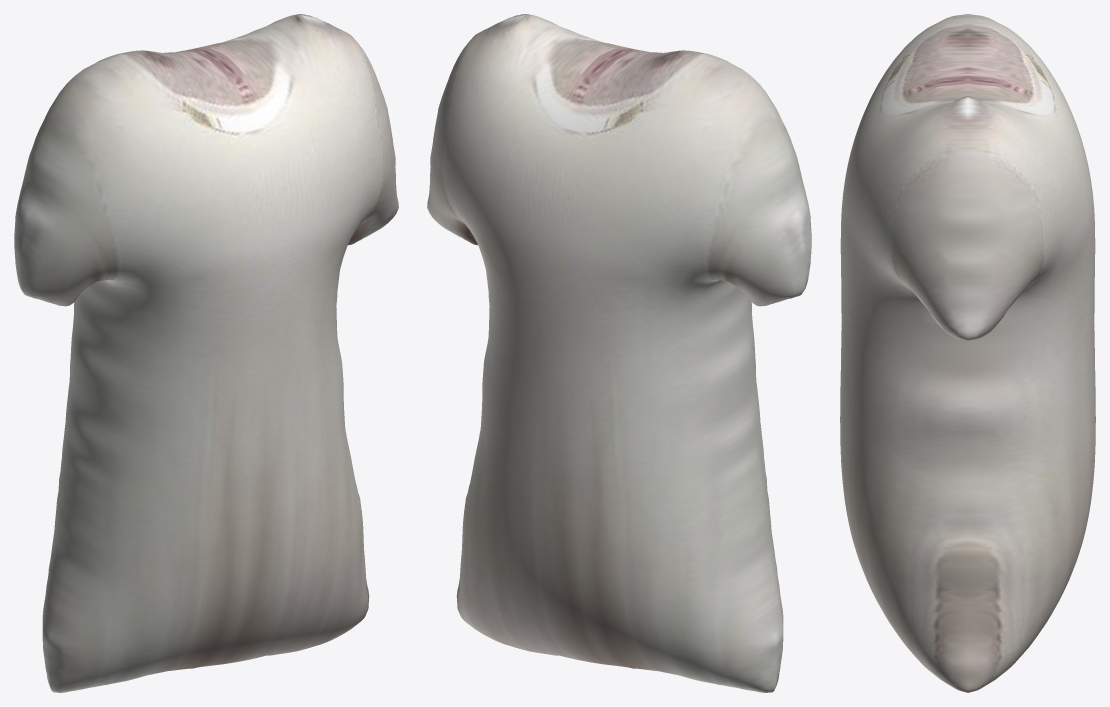
File: AN621CAK9-B11@10=cloth_front.glb
The picture shows the model from 3 angles, left to right: view 1: azimuth 30°, elevation 25°; view 2: azimuth 150°, elevation 25°; view 3: azimuth 270°, elevation 25°; orthographic projection. The views are drawn at different scales.
Size of the model in its own units: 4.49 by 7.15 by 2.86.
1 material, 1 textured.
